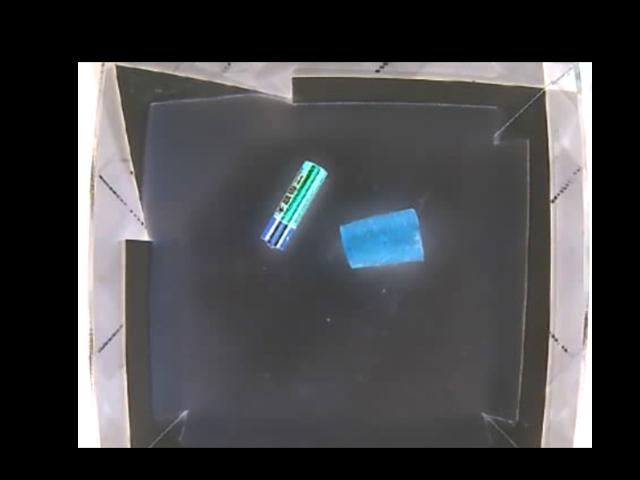Battery: (257, 161, 326, 250)
Carrot: (338, 206, 424, 269)
